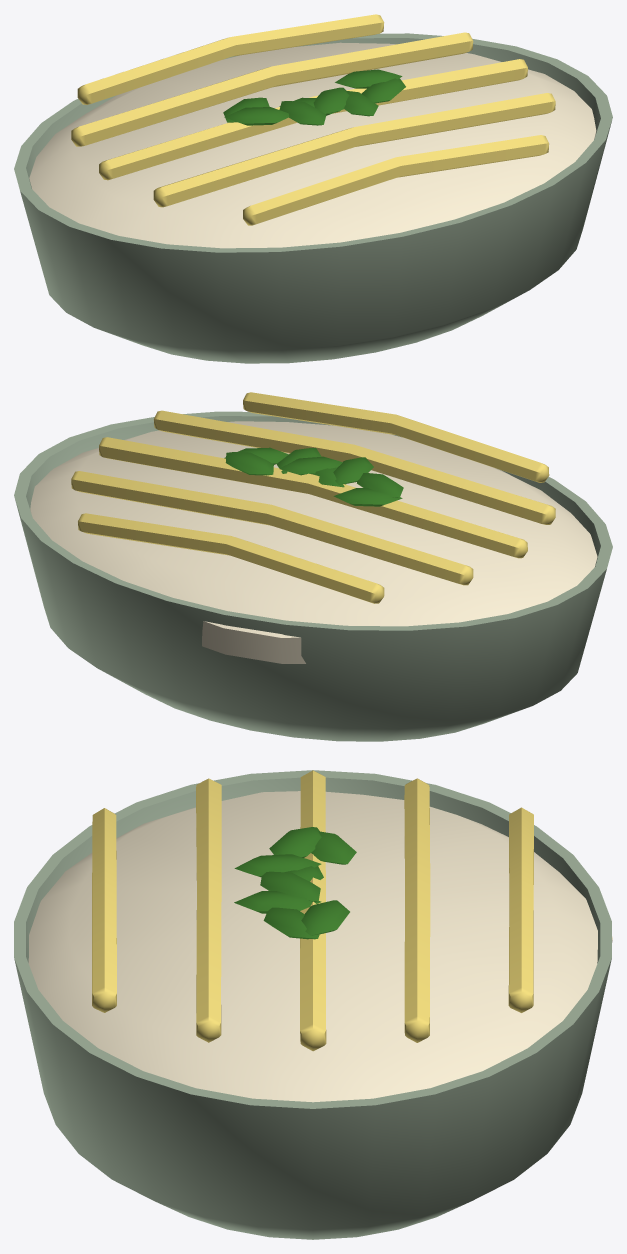
File: meal_shepherds_pie_dish.glb
3 views of the same model, one above another, from view 1: azimuth 30°, elevation 25°; view 2: azimuth 150°, elevation 25°; view 3: azimuth 270°, elevation 25° (orthographic). The views are drawn at different scales.
Visible parts, largest first — view 1: meal_shepherds_pie_dish; view 2: meal_shepherds_pie_dish; view 3: meal_shepherds_pie_dish.
Boxes of the visible parts, left/top/right/bottom form: meal_shepherds_pie_dish: left=14, top=14, right=612, bottom=363; meal_shepherds_pie_dish: left=14, top=392, right=612, bottom=741; meal_shepherds_pie_dish: left=14, top=770, right=612, bottom=1239.
Bounding box in the file's own units: 0.2 × 0.068 × 0.1494.
